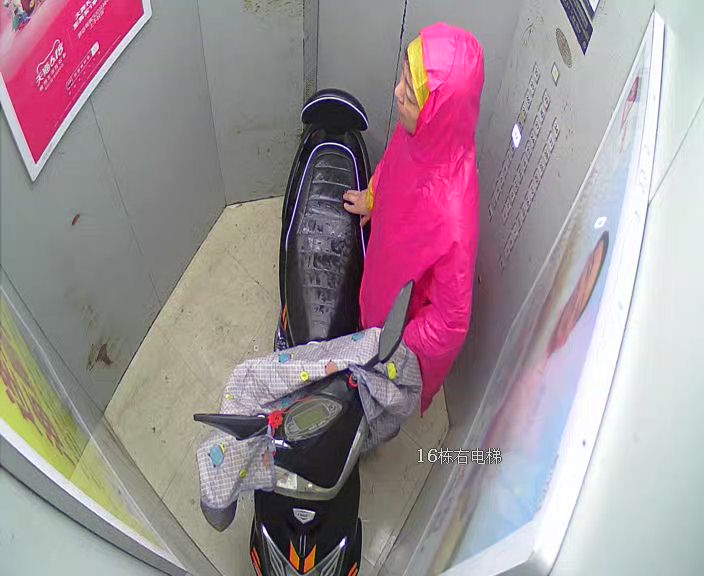Electric-bicycle: (198, 87, 417, 576)
